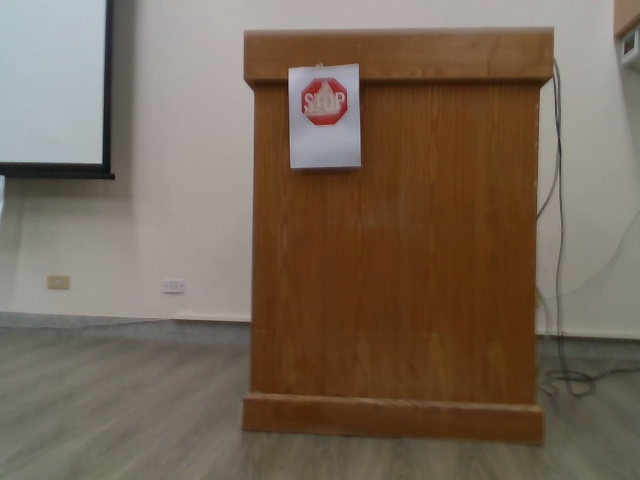stop: (297, 75, 352, 129)
